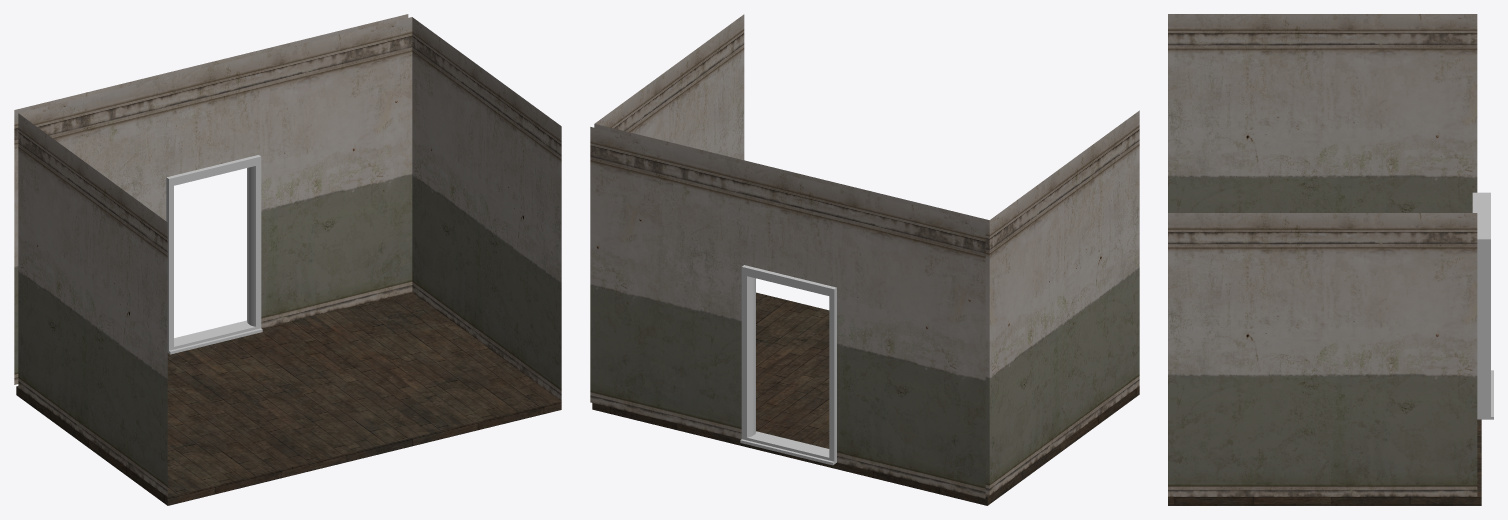
The model's file is hallway_end_door.fbx.
The picture shows the model from 3 angles, left to right: view 1: azimuth 30°, elevation 25°; view 2: azimuth 150°, elevation 25°; view 3: azimuth 270°, elevation 25°; orthographic projection. The views are drawn at different scales.
Visible parts, largest first — view 1: hallway_end_door; view 2: hallway_end_door; view 3: hallway_end_door.
Part boxes in pixels (<box>): hallway_end_door: <box>14,14,561,505</box>; hallway_end_door: <box>590,14,1139,505</box>; hallway_end_door: <box>1168,14,1493,505</box>.
Size of the model in its own units: 600 by 412 by 416.
